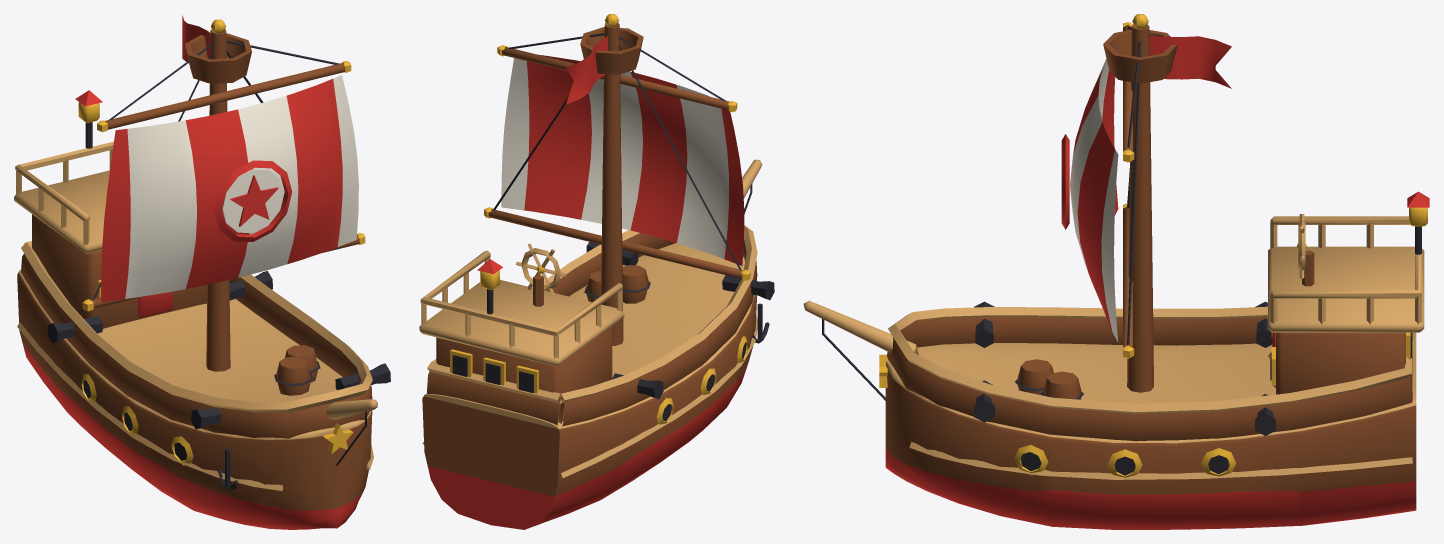
The model's file is ship_water.glb.
3 renders of one model, left to right at view 1: azimuth 30°, elevation 25°; view 2: azimuth 150°, elevation 25°; view 3: azimuth 270°, elevation 25°, orthographic. The views are drawn at different scales.
Visible parts, largest first — view 1: body, sail, flag; view 2: body, sail, flag; view 3: body, sail, flag.
Boxes of the visible parts, <box> form: body: <box>14,90,390,529</box>; sail: <box>82,19,365,371</box>; flag: <box>182,15,210,61</box>; body: <box>419,159,774,529</box>; sail: <box>484,14,750,345</box>; flag: <box>566,36,607,104</box>; body: <box>803,191,1429,529</box>; sail: <box>1061,14,1177,392</box>; flag: <box>1149,35,1231,88</box>.
Size of the model in its own units: 3.36 by 5.23 by 6.02.
